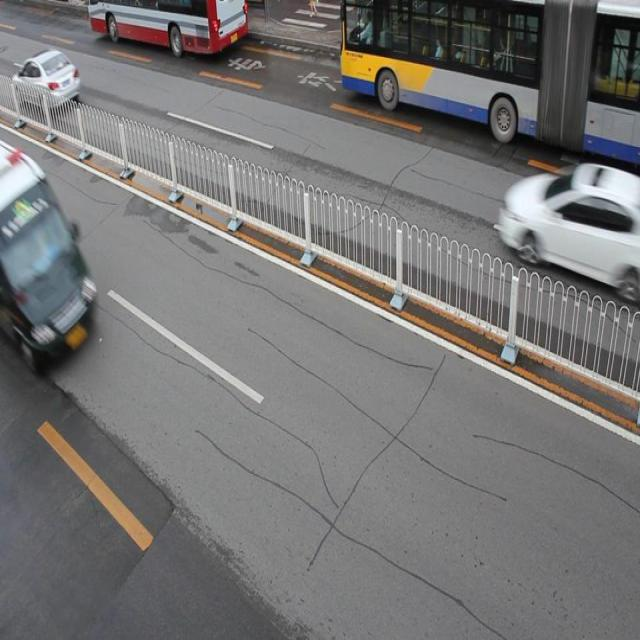car: (499, 163, 640, 292), (13, 49, 80, 114)
truck: (1, 143, 97, 365)
van: (338, 1, 640, 165), (85, 1, 244, 58)
